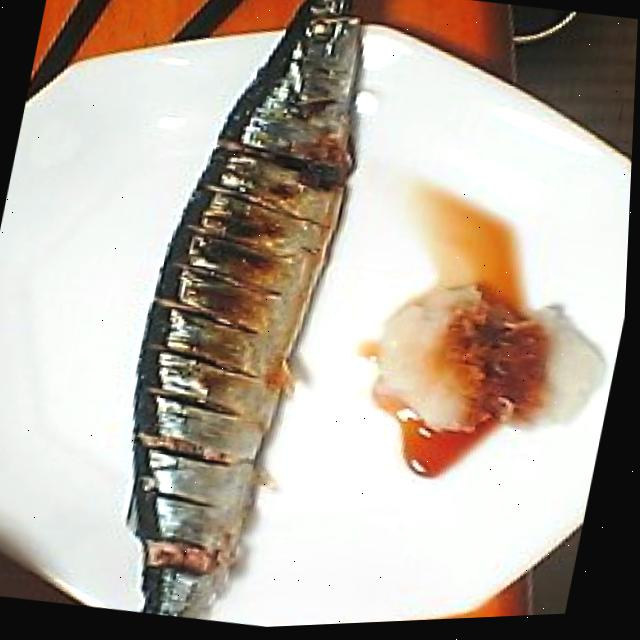熟制海鲜: (97, 0, 373, 633)
